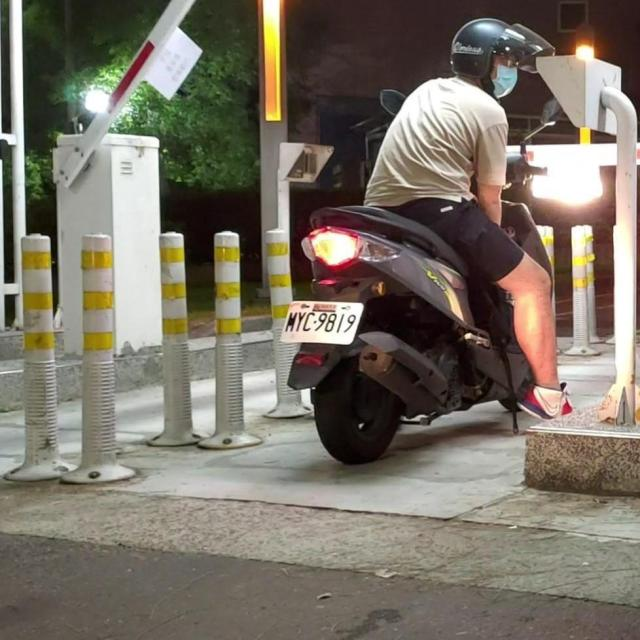W: (278, 298, 363, 346)
